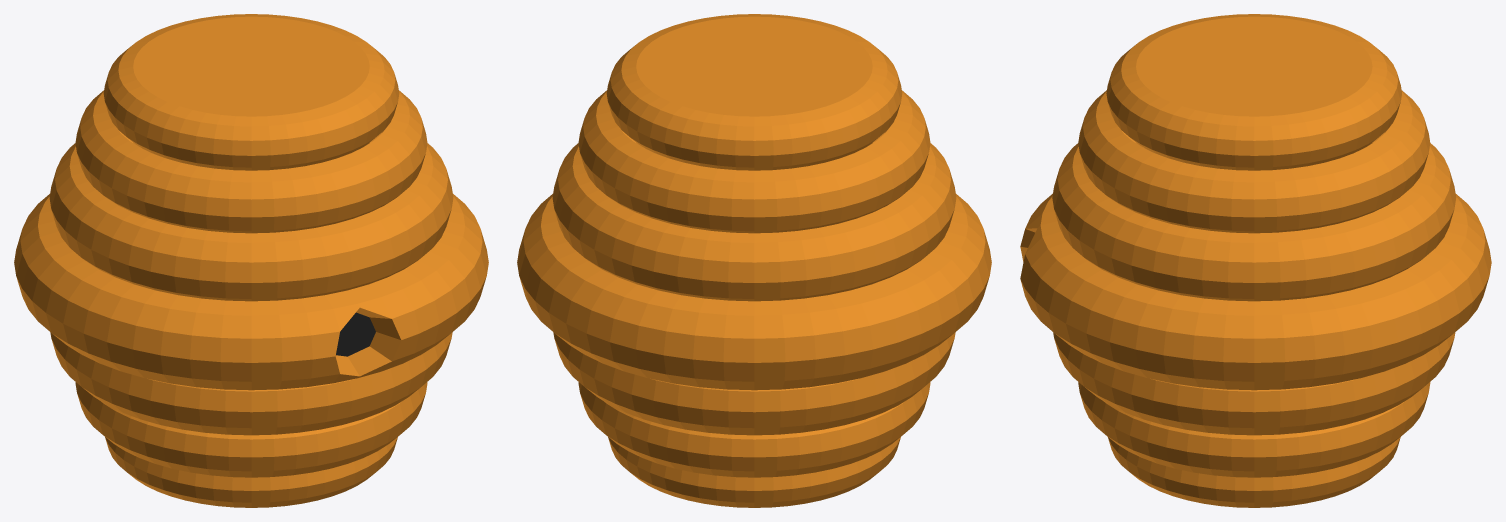
Rendered from BeeHive 1.fbx.
3 views of the same model, side by side, from view 1: azimuth 30°, elevation 25°; view 2: azimuth 150°, elevation 25°; view 3: azimuth 270°, elevation 25° (orthographic).
Visible parts, largest first — view 1: Beehive; view 2: Beehive; view 3: Beehive.
Boxes of the visible parts, x1,y1,x2,y2 form: Beehive: (14,14,488,507); Beehive: (517,14,991,507); Beehive: (1020,14,1491,507).
Bounding box in the file's own units: 2.5 × 2.26 × 2.48.
